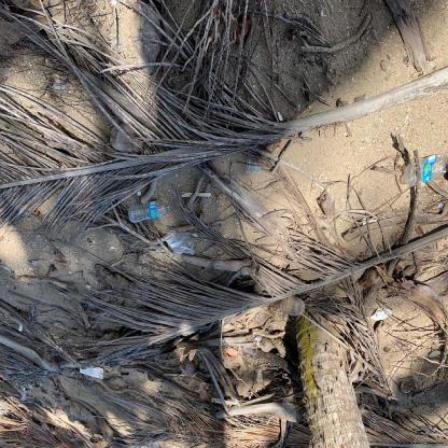Bottle: (405, 153, 448, 189), (130, 200, 172, 224), (176, 235, 196, 257)
Cup: (167, 235, 185, 255), (245, 345, 259, 357)
Other litter: (183, 195, 212, 200)
Unlabeled litter: (81, 369, 105, 382), (372, 309, 392, 323), (246, 158, 261, 176), (21, 386, 32, 403), (213, 399, 234, 405)
